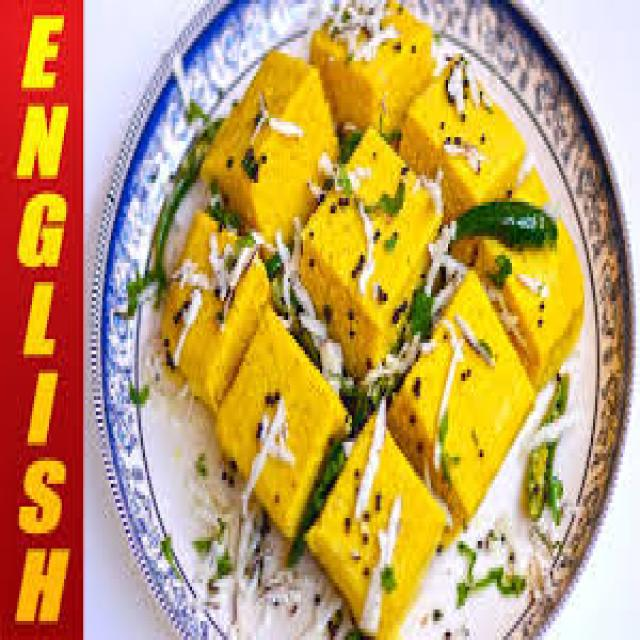DHOKLA: (307, 419, 444, 636), (215, 305, 343, 537), (301, 179, 437, 377), (201, 50, 337, 236), (442, 270, 533, 514), (160, 213, 271, 411), (401, 57, 525, 217), (309, 15, 433, 130)
